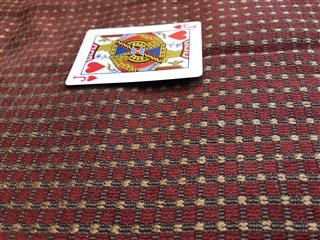JackOfHearts: (64, 20, 202, 85)
